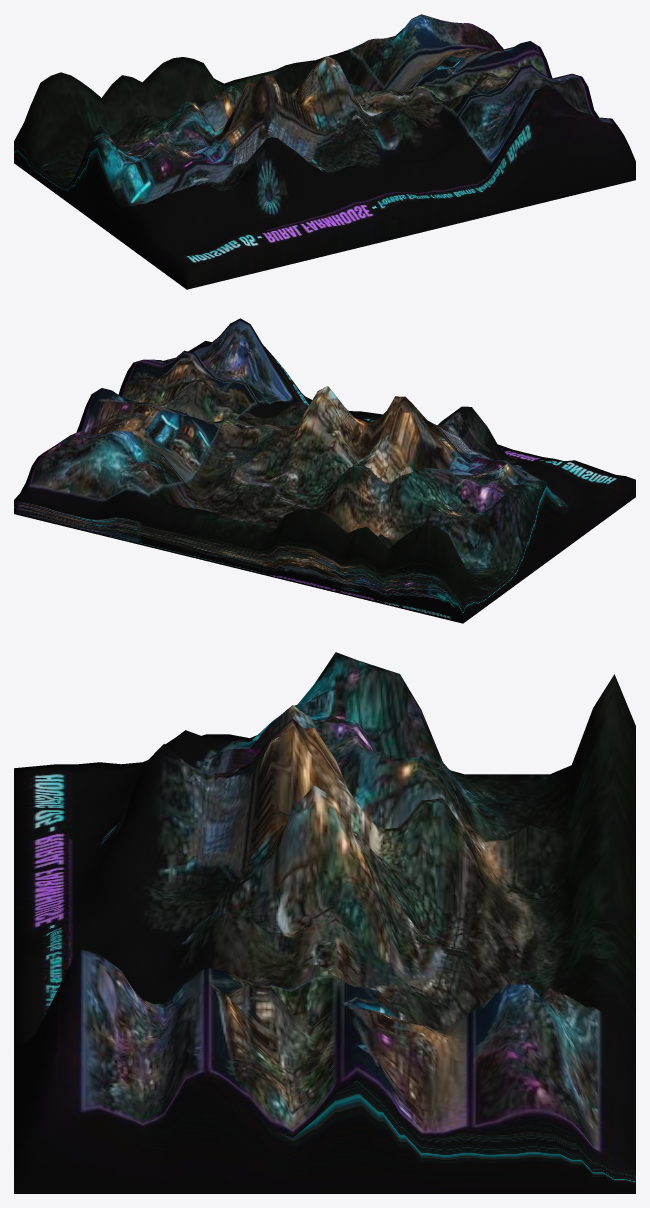
File: HOUSING_05_Rural_Farmhouse.glb
3 renders of one model, top to bottom at view 1: azimuth 30°, elevation 25°; view 2: azimuth 150°, elevation 25°; view 3: azimuth 270°, elevation 25°, orthographic. The views are drawn at different scales.
Parts seen in each view (by area): view 1: HOUSING_05_Rural_Farmhouse; view 2: HOUSING_05_Rural_Farmhouse; view 3: HOUSING_05_Rural_Farmhouse.
Part boxes in pixels (<box>): HOUSING_05_Rural_Farmhouse: <box>14,14,635,289</box>; HOUSING_05_Rural_Farmhouse: <box>14,318,635,623</box>; HOUSING_05_Rural_Farmhouse: <box>14,652,635,1193</box>.
Size of the model in its own units: 2 by 0.51 by 1.33.
Materials: 1 (1 with a texture image).
